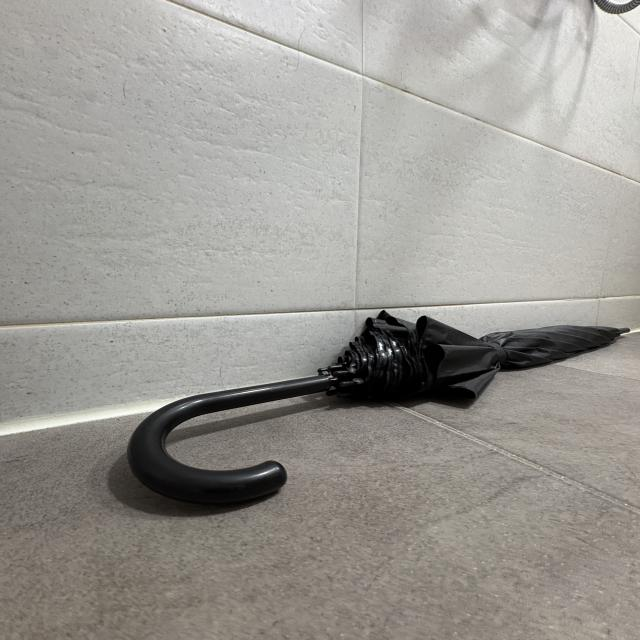umbrella: (127, 308, 633, 500)
